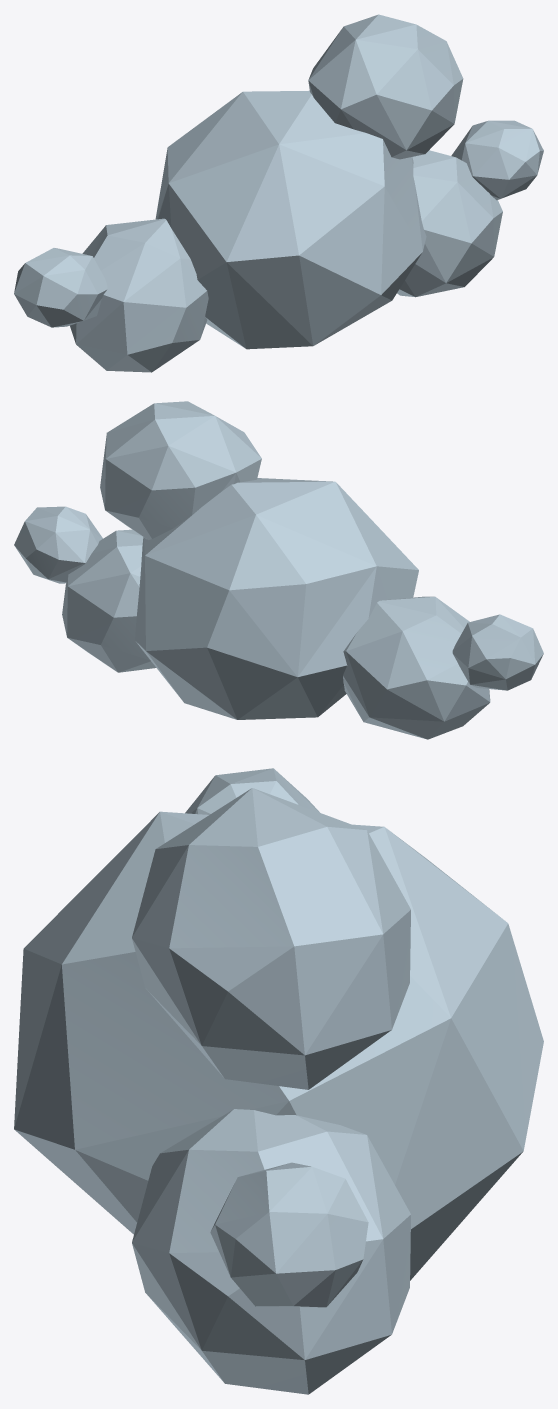
The model's file is small_cloud_6.fbx.
3 views of the same model, one above another, from view 1: azimuth 30°, elevation 25°; view 2: azimuth 150°, elevation 25°; view 3: azimuth 270°, elevation 25° (orthographic). The views are drawn at different scales.
Parts seen in each view (by area): view 1: cloud_6; view 2: cloud_6; view 3: cloud_6.
Part boxes in pixels (box(x1,y1,x2,y2)): cloud_6: box(14, 14, 543, 372); cloud_6: box(14, 401, 543, 739); cloud_6: box(14, 768, 543, 1394).
Size of the model in its own units: 461 by 238 by 211.
